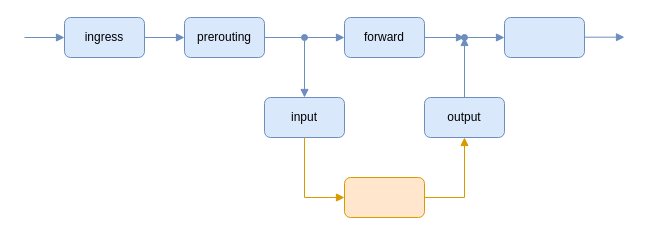
The diagram is 650 pixels wide and 235 high, and some of its shapes have lost their labels. The shapes that lost their labels are listed below. From the top down, each one's centre as x and y in pixels, then its label:
pixel 544 37: postrouting
pixel 384 197: Local System
